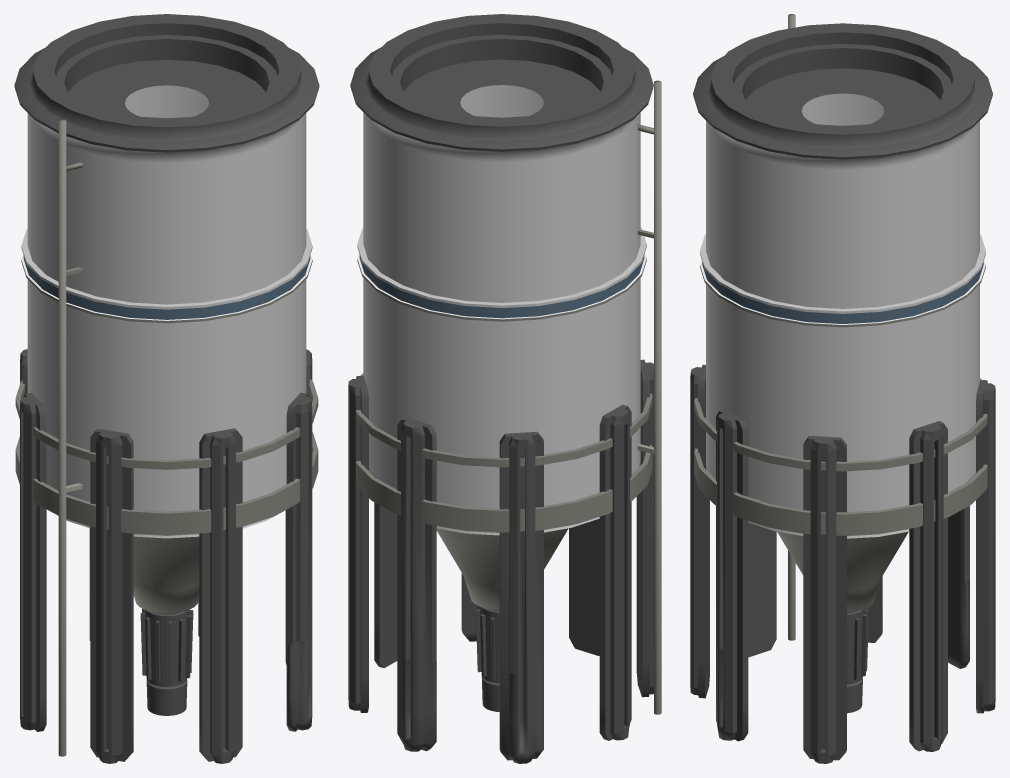
The model's file is bld_tower_industry_03.fbx.
The picture shows the model from 3 angles, left to right: view 1: azimuth 30°, elevation 25°; view 2: azimuth 150°, elevation 25°; view 3: azimuth 270°, elevation 25°; orthographic projection.
Visible parts, largest first — view 1: bld_tower_industry_03; view 2: bld_tower_industry_03; view 3: bld_tower_industry_03.
Boxes of the visible parts, bbox=[...] form: bld_tower_industry_03: bbox=[14, 14, 319, 763]; bld_tower_industry_03: bbox=[348, 14, 661, 763]; bld_tower_industry_03: bbox=[690, 14, 995, 763].
Size of the model in its own units: 345 by 783 by 345.
